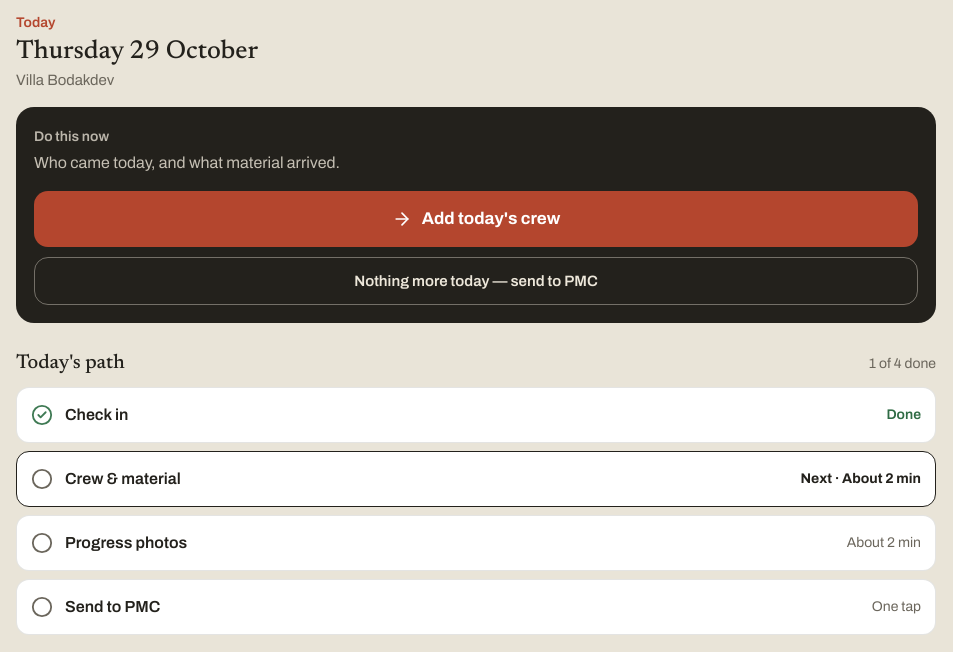
it: U1b — "Same as yesterday (N)": the last log's count for this trade › sets this trade's count to yesterday's, and moves on only with Next
The width and height of the screenshot is (953, 652).
Click the button with test id "today-action" at (476, 219), box [34,191,918,247]
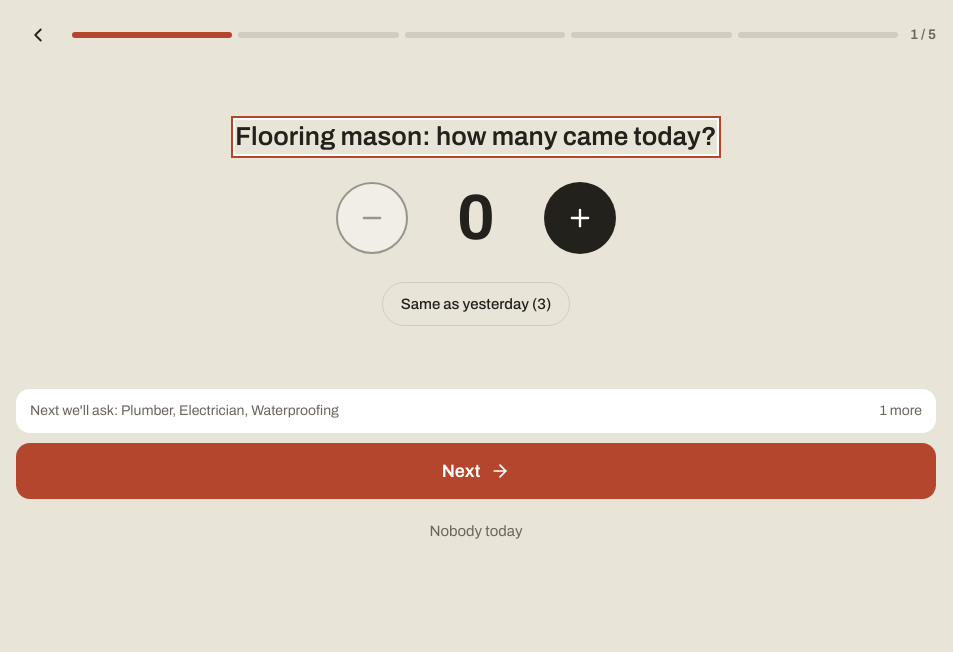
Expected: the button with test id "crew-same" reads "Same as yesterday (3)"
Click the button with test id "crew-same" at (476, 304), box [382,282,570,326]
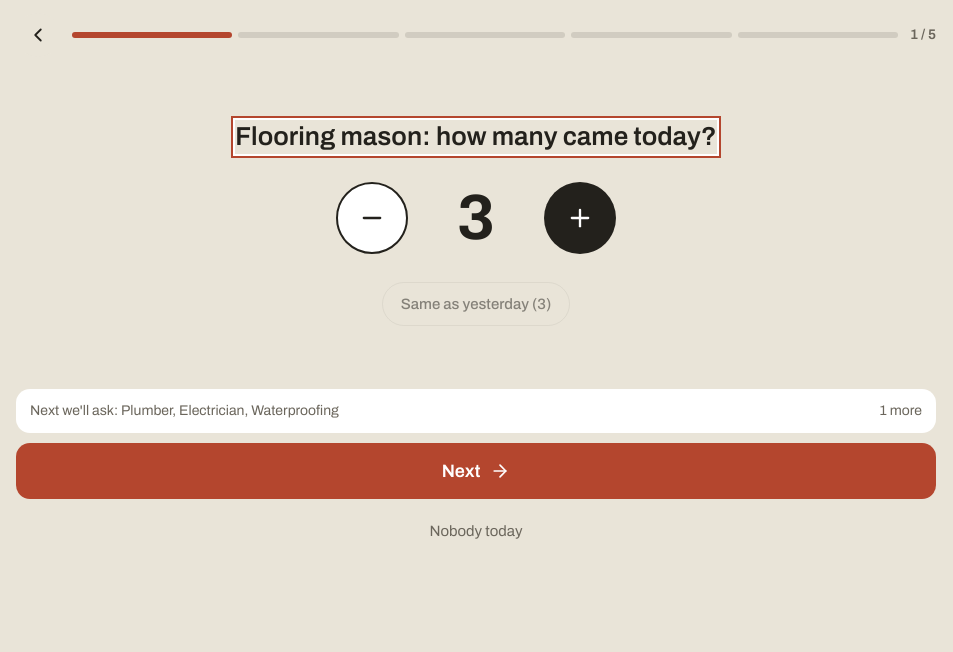
Expected: the text with test id "crew-count" reads "3", [457,183,495,252]
Expected: the button with test id "crew-same" is disabled, [382,282,570,326]
Click the button with test id "crew-more" at (580, 218), box [544,182,616,254]
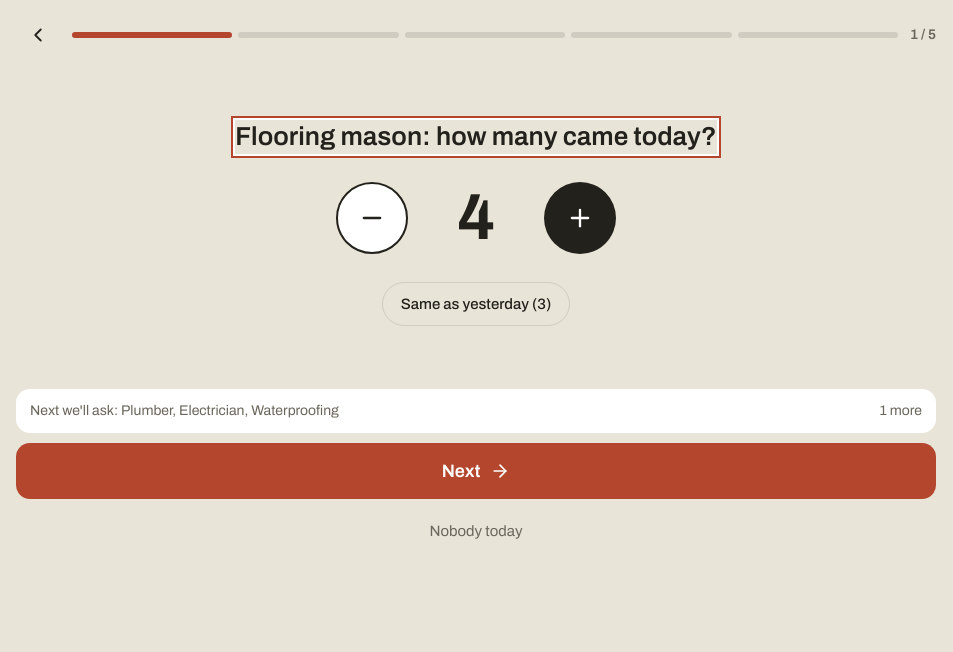
Click the button with test id "crew-same" at (476, 304), box [382,282,570,326]
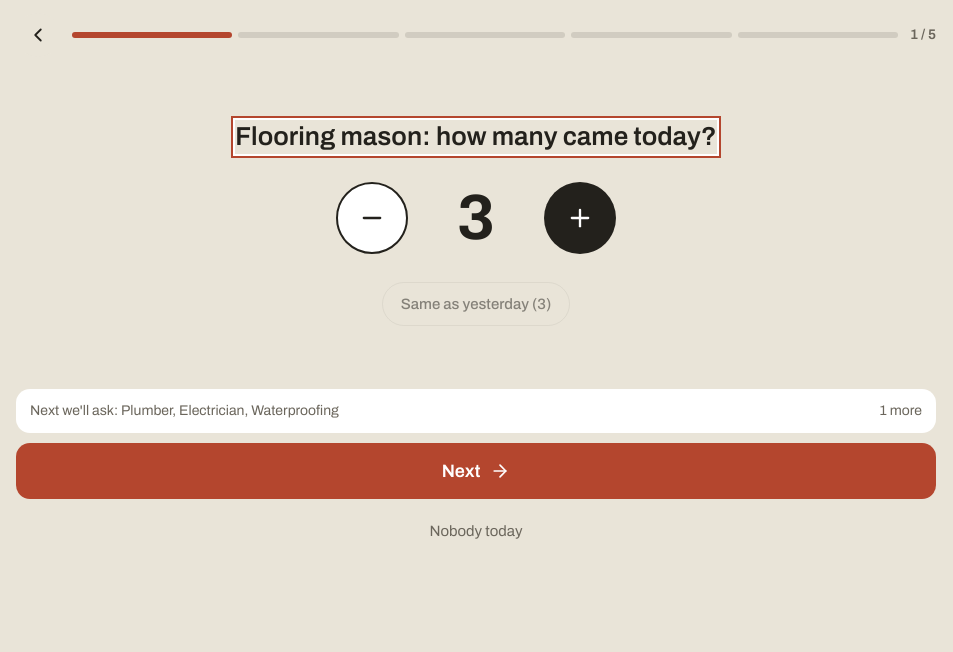
Click the button with test id "crew-next" at (476, 471), box [16,443,936,499]
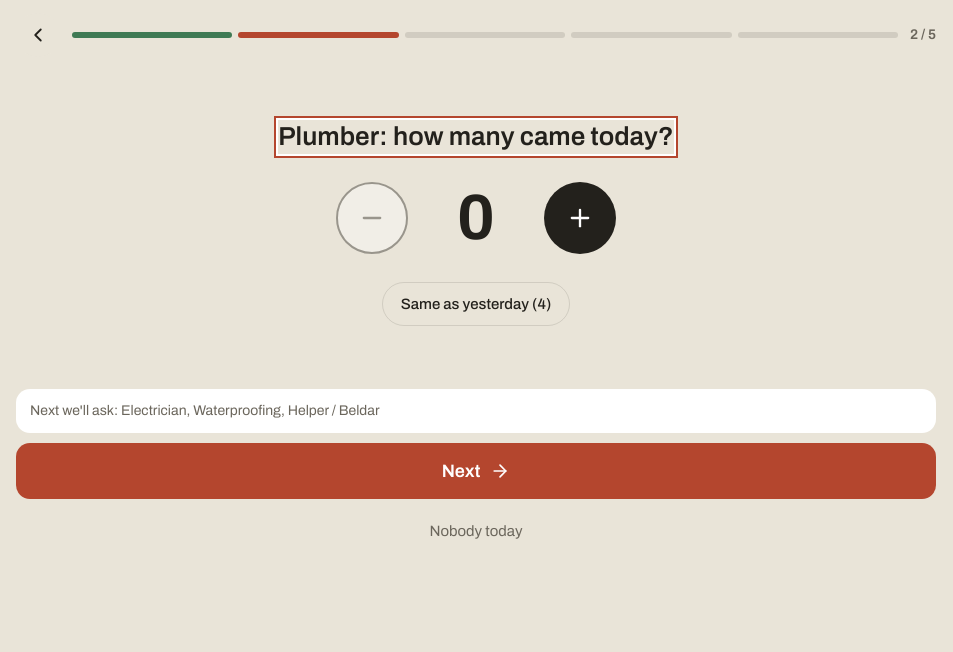
Expected: the button with test id "crew-same" reads "Same as yesterday (4)", [382,282,570,326]
